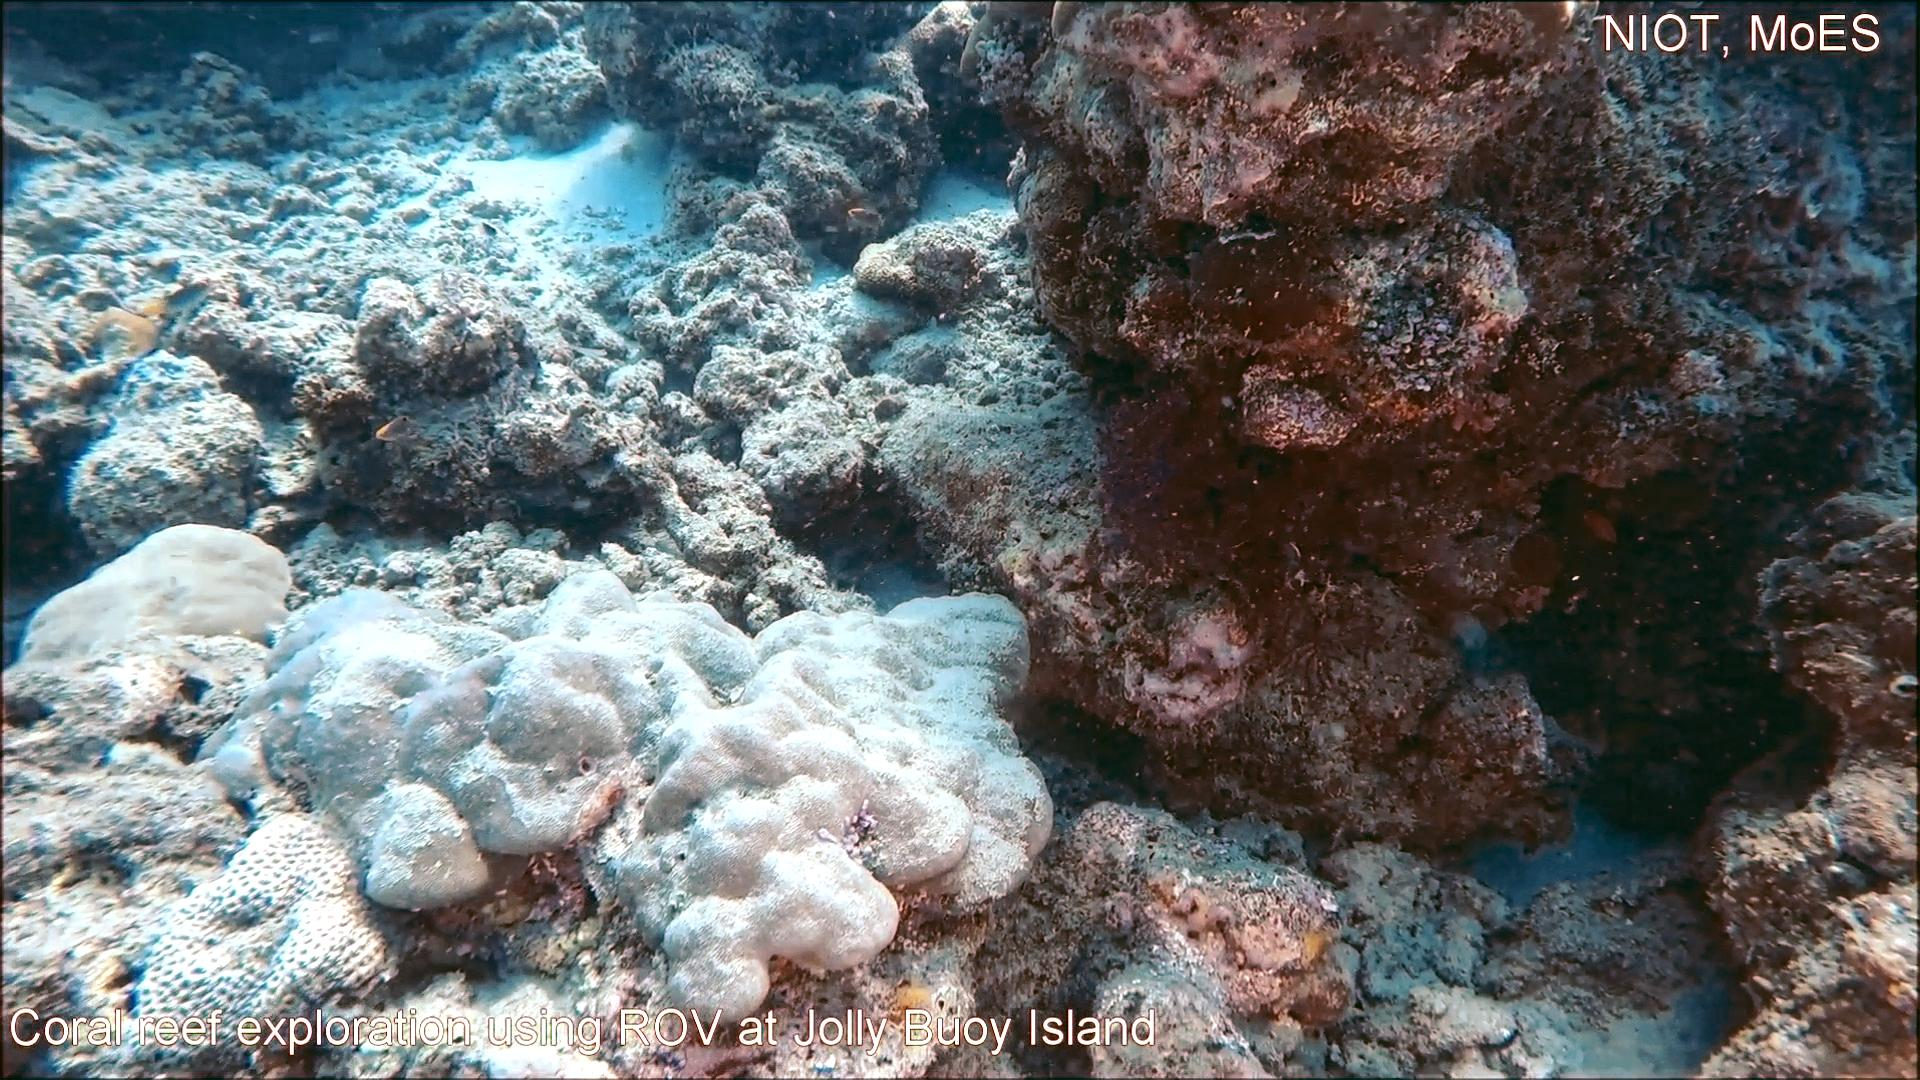Goniastrea-Goniastrea pectinata: (132, 800, 392, 1080)
Gorgonian-Purple Plexaura: (1088, 348, 1432, 711)
Porites-Porites pukoensis: (480, 560, 1059, 1034)
